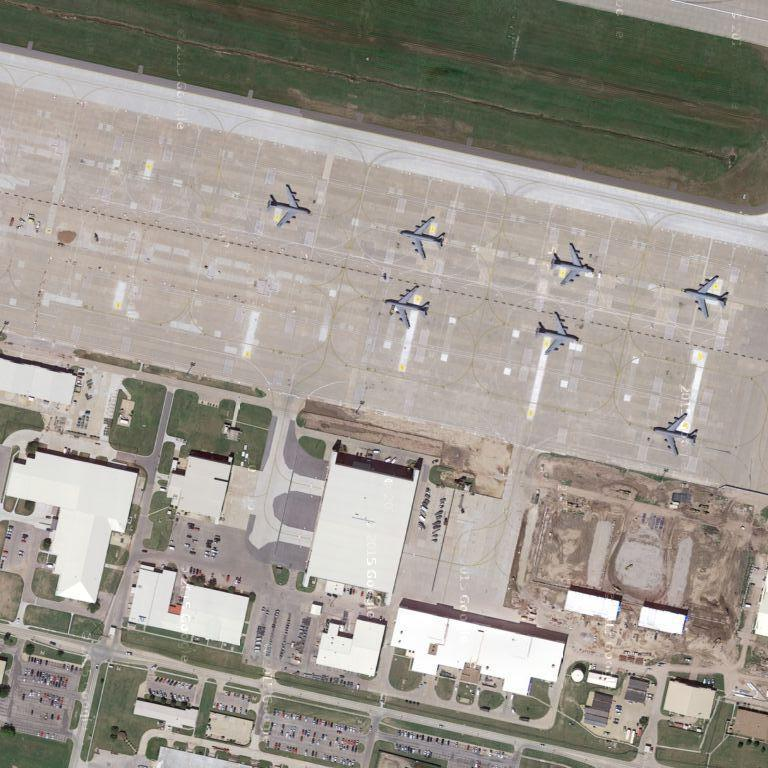KC-135: (529, 308, 582, 358), (399, 213, 450, 264), (266, 179, 315, 232), (380, 283, 433, 331), (680, 272, 730, 319), (649, 413, 701, 458), (549, 242, 597, 288)
